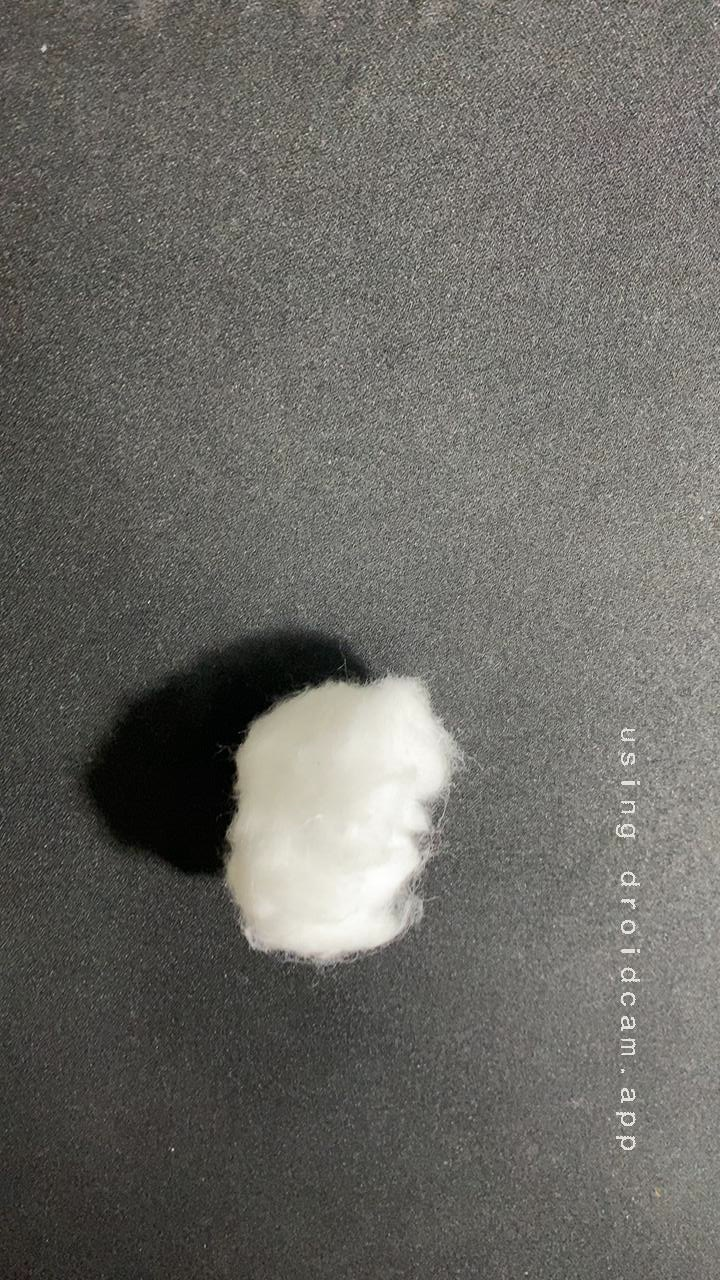cotton: (188, 647, 500, 995)
